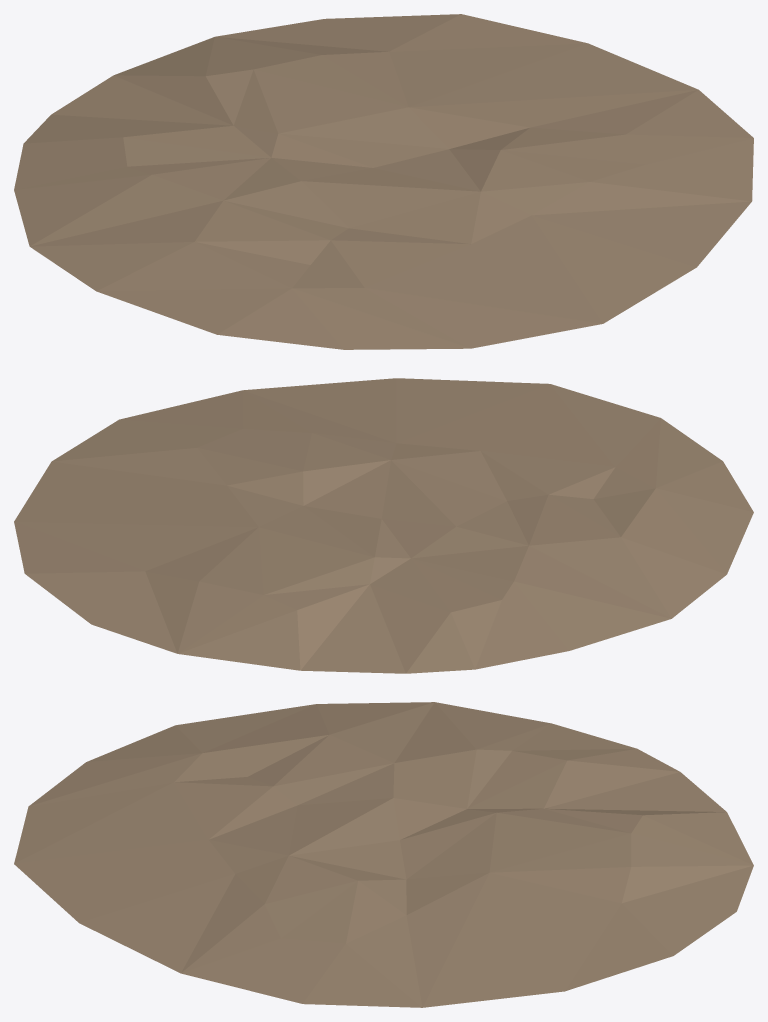
Rendered from SM_Env_Ground_Round_01.fbx.
The picture shows the model from 3 angles, top to bottom: view 1: azimuth 30°, elevation 25°; view 2: azimuth 150°, elevation 25°; view 3: azimuth 270°, elevation 25°; orthographic projection. The views are drawn at different scales.
Parts seen in each view (by area): view 1: SM_Env_Ground_Round_01; view 2: SM_Env_Ground_Round_01; view 3: SM_Env_Ground_Round_01.
Part boxes in pixels (x1,y1,x2,y2): SM_Env_Ground_Round_01: [14, 14, 753, 349]; SM_Env_Ground_Round_01: [14, 378, 753, 673]; SM_Env_Ground_Round_01: [14, 702, 753, 1007].
Size of the model in its own units: 1305 by 39.83 by 1334.
